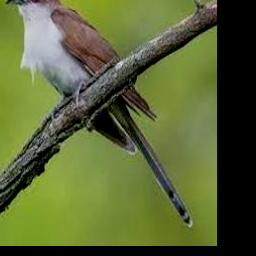Cuckoo: (6, 0, 193, 227)
